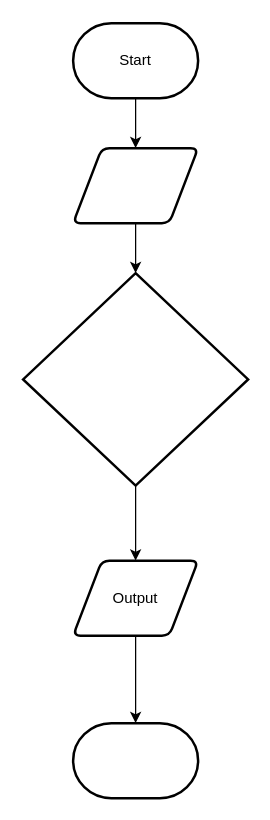
Image size: 270x820. Some labels were removed from this diagram. The shapes that lost their labels are listed below. From the top down, each one's centre as x and y in pixels, then its label:
At (135,378): "if buttonOnChecked == true".
At (135,760): "Stop".
